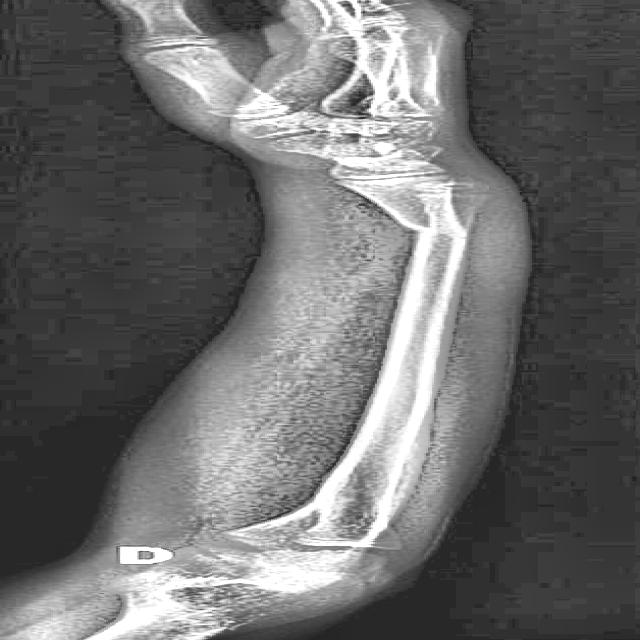line: (393, 221, 465, 240)
